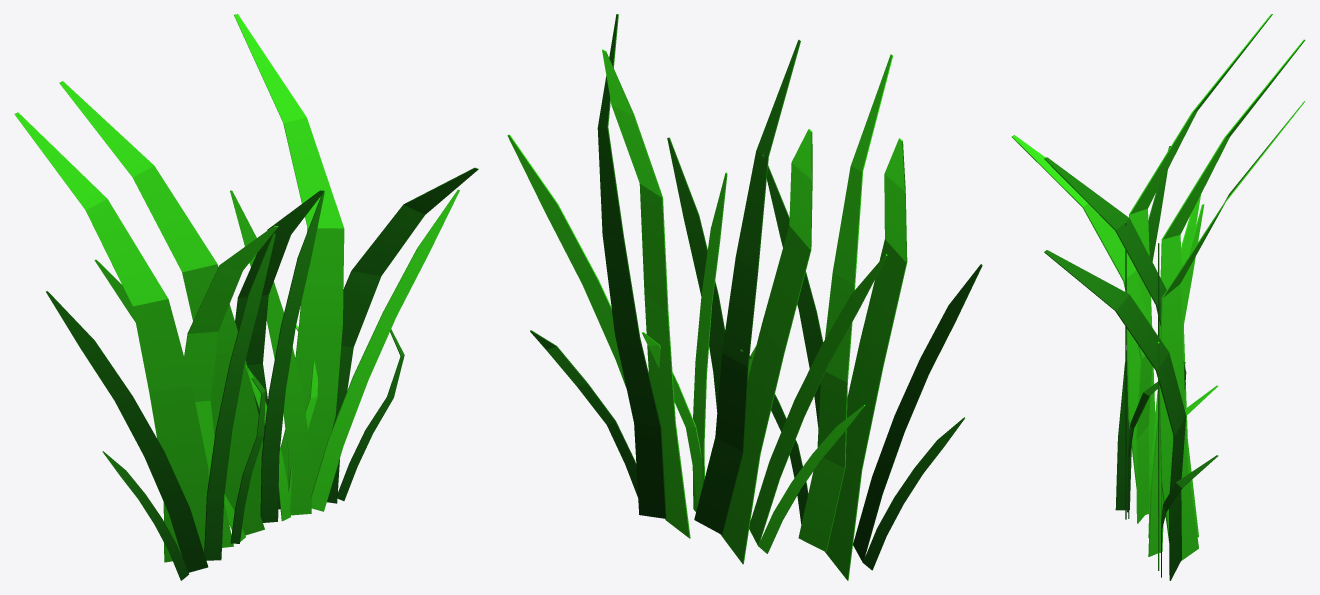
Rendered from PlantSmall.fbx.
3 views of the same model, side by side, from view 1: azimuth 30°, elevation 25°; view 2: azimuth 150°, elevation 25°; view 3: azimuth 270°, elevation 25° (orthographic). The views are drawn at different scales.
Parts seen in each view (by area): view 1: PlantSmall; view 2: PlantSmall; view 3: PlantSmall.
Part boxes in pixels (x1,y1,x2,y2): PlantSmall: (14, 14, 478, 580); PlantSmall: (507, 14, 982, 580); PlantSmall: (1011, 14, 1305, 580).
Bounding box in the file's own units: 0.7244 × 0.7959 × 0.441.
Materials: 1 (1 with a texture image).
